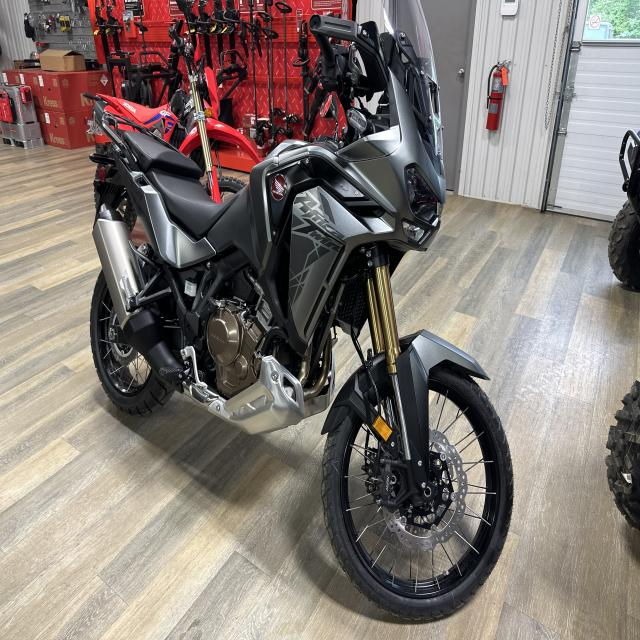Motorcycle: (89, 0, 514, 620)
